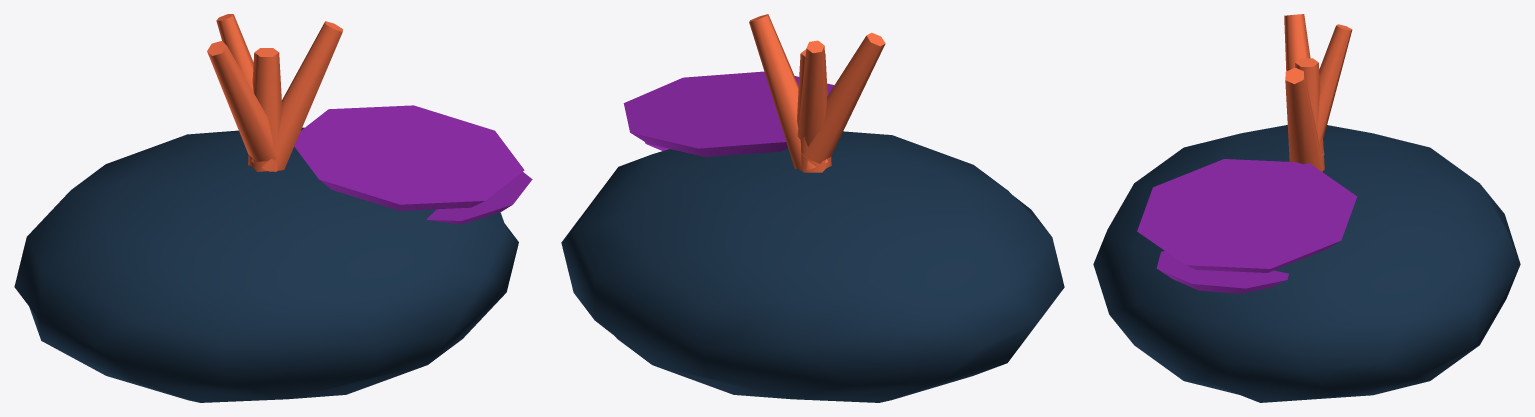
The model's file is coral_formation.glb.
3 views of the same model, side by side, from view 1: azimuth 30°, elevation 25°; view 2: azimuth 150°, elevation 25°; view 3: azimuth 270°, elevation 25° (orthographic). The views are drawn at different scales.
Visible parts, largest first — view 1: CoralFormation; view 2: CoralFormation; view 3: CoralFormation.
Boxes of the visible parts, left/top/right/bottom form: CoralFormation: left=14, top=14, right=532, bottom=402; CoralFormation: left=561, top=14, right=1064, bottom=402; CoralFormation: left=1093, top=14, right=1520, bottom=402.
Size of the model in its own units: 1.68 by 1.21 by 1.44.
